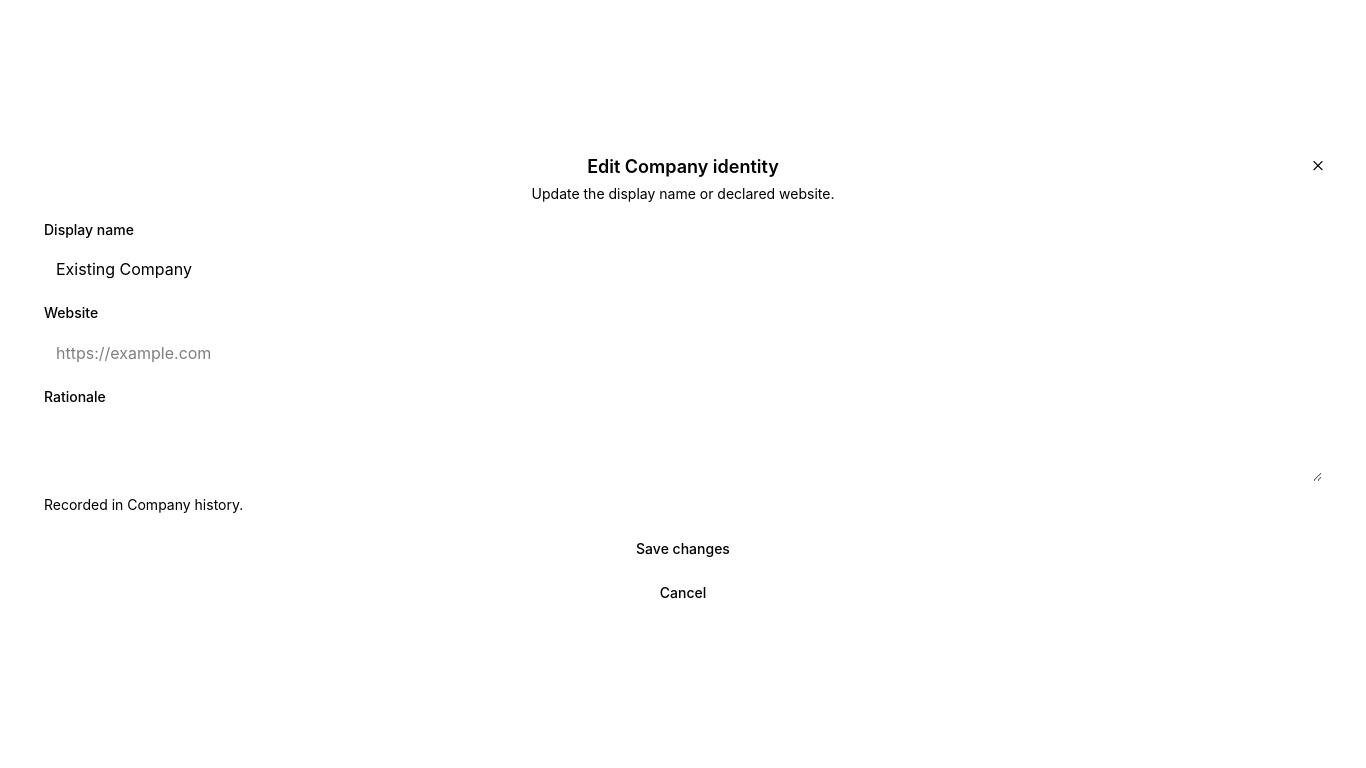
Test case: CompanyMutationModal › keeps a stale edit modal open with the refresh-and-resubmit message
This screenshot has width=1366, height=768.
Replace the text in the field labelled "Display name" with "Changed Company": {"x": 683, "y": 269} [44,251,1322,287]
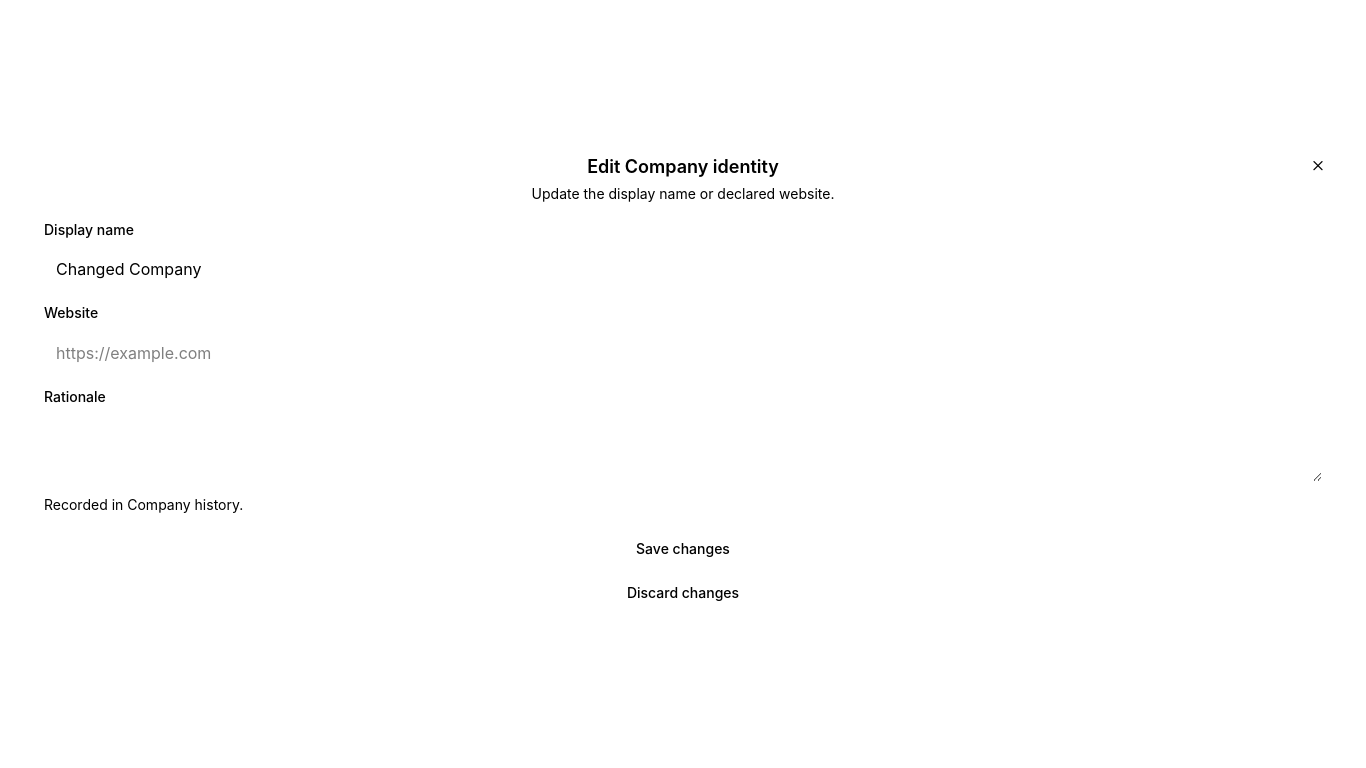
In the text box labelled "Rationale": {"x": 683, "y": 449} [44,417,1322,481], type "Update identity."
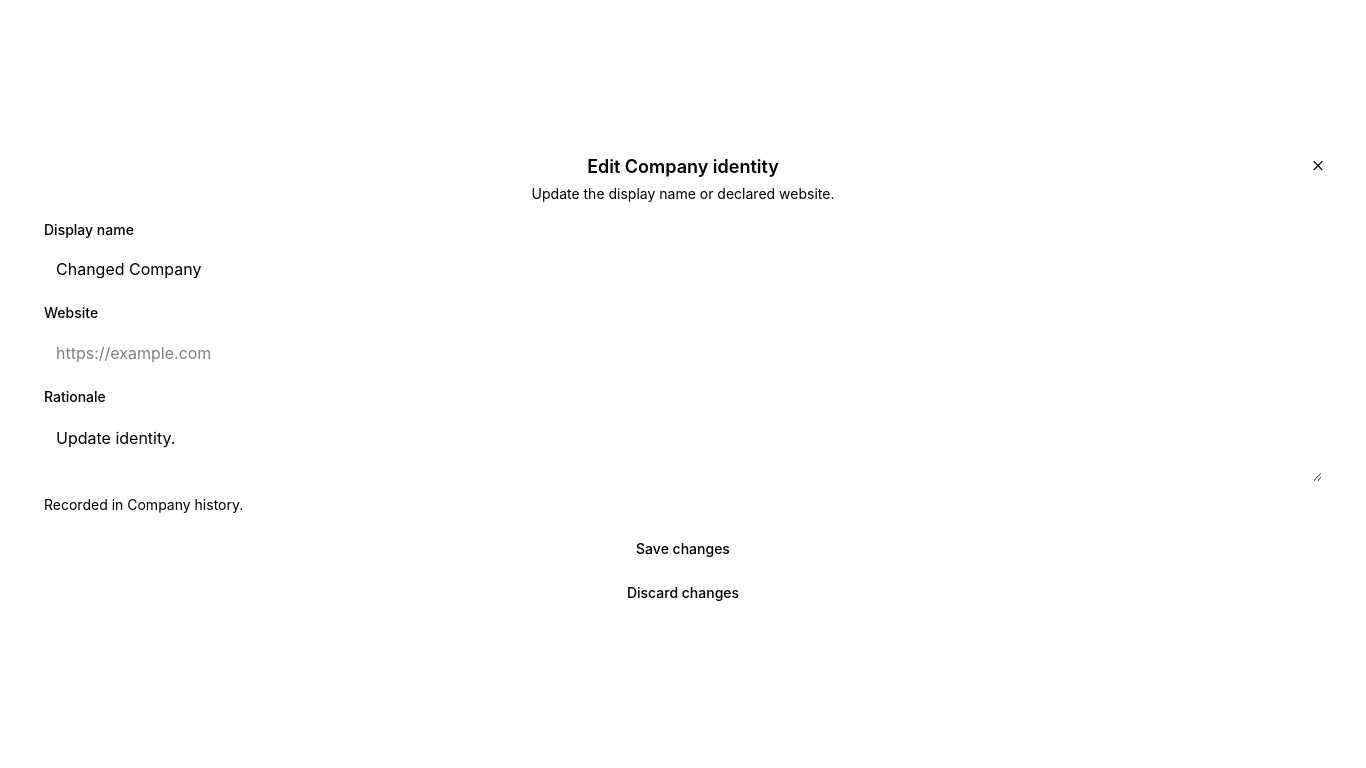
Click the button "Save changes": {"x": 683, "y": 548} [40,530,1326,566]
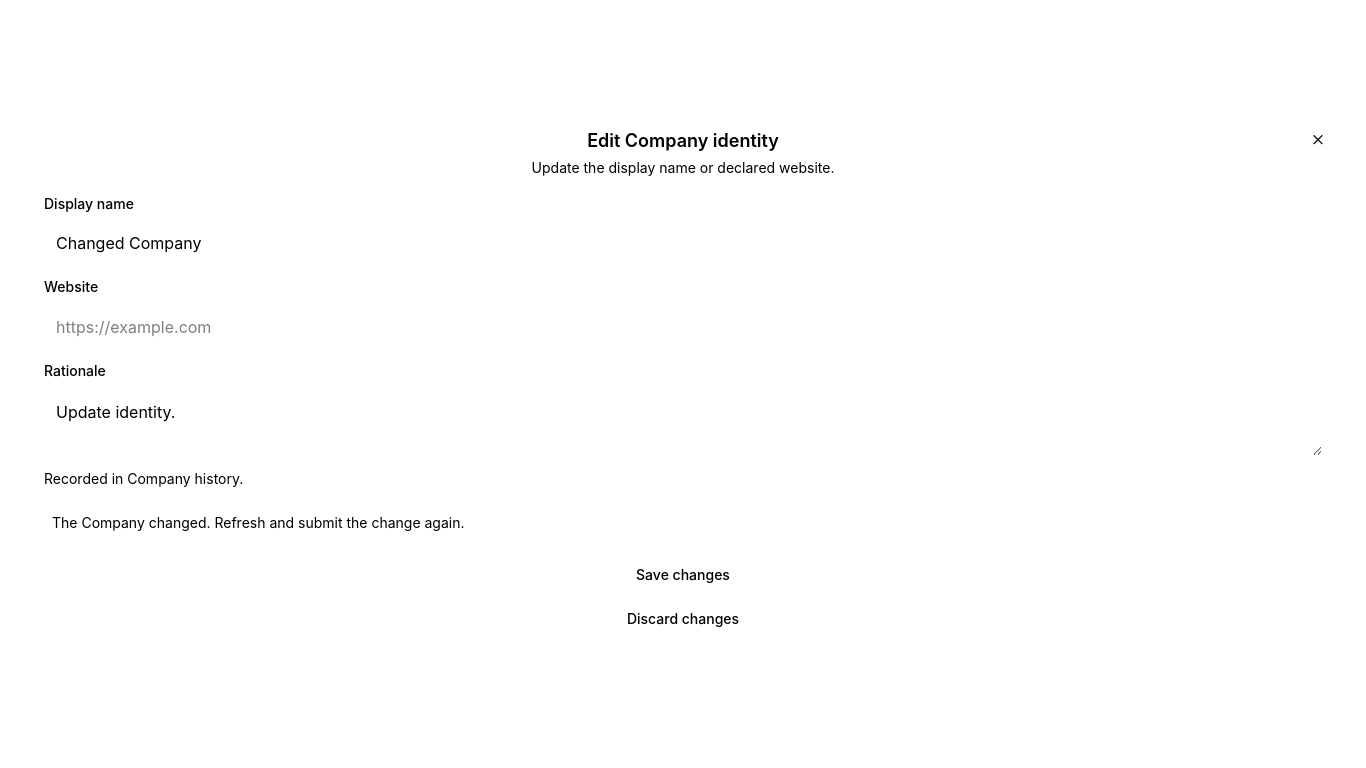
Expected: the message reads "The Company changed. Refresh and submit the change again.", [52,513,464,530]
